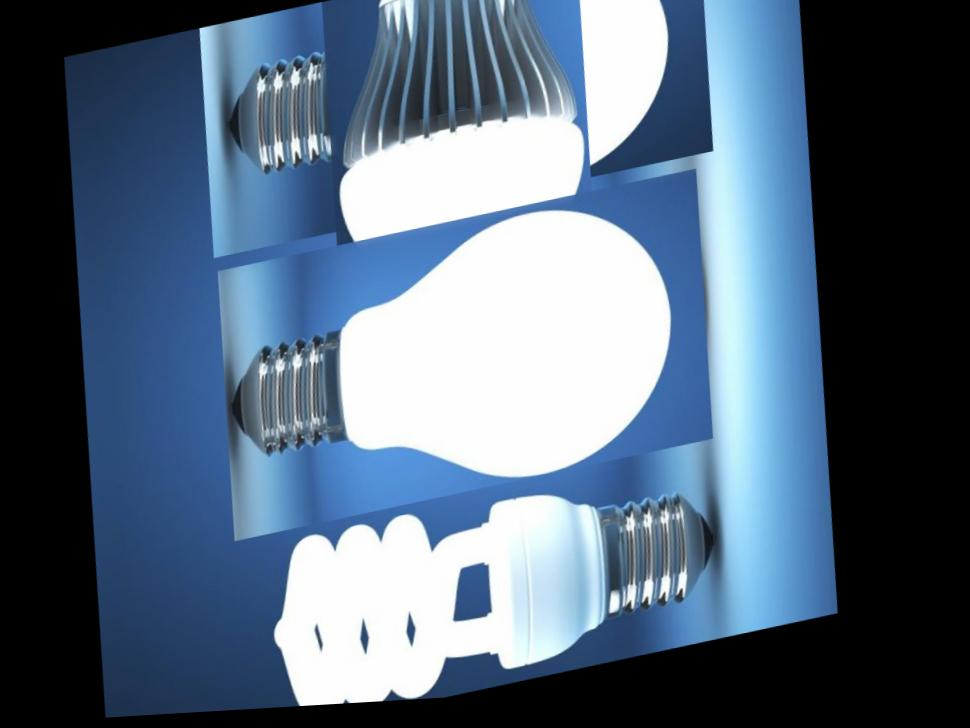Bulb: (201, 175, 742, 547), (238, 0, 680, 311), (236, 457, 754, 714)
